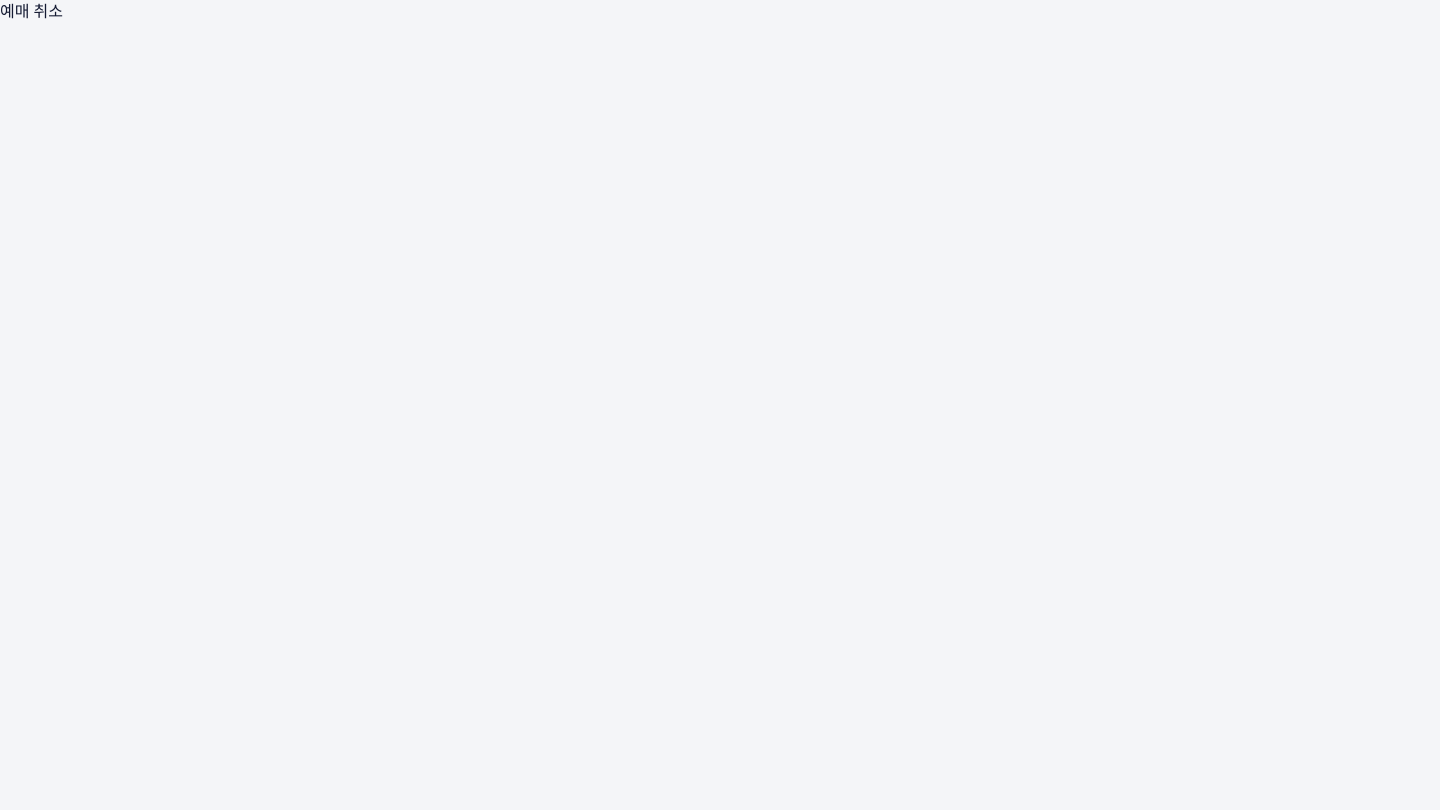
Test: Dialog › 열면 제목으로 이름이 붙고, Esc로 닫으면 포커스가 트리거로 돌아간다
Step 1. Click the button "예매 취소" → click(31, 12), box [0,0,63,24]
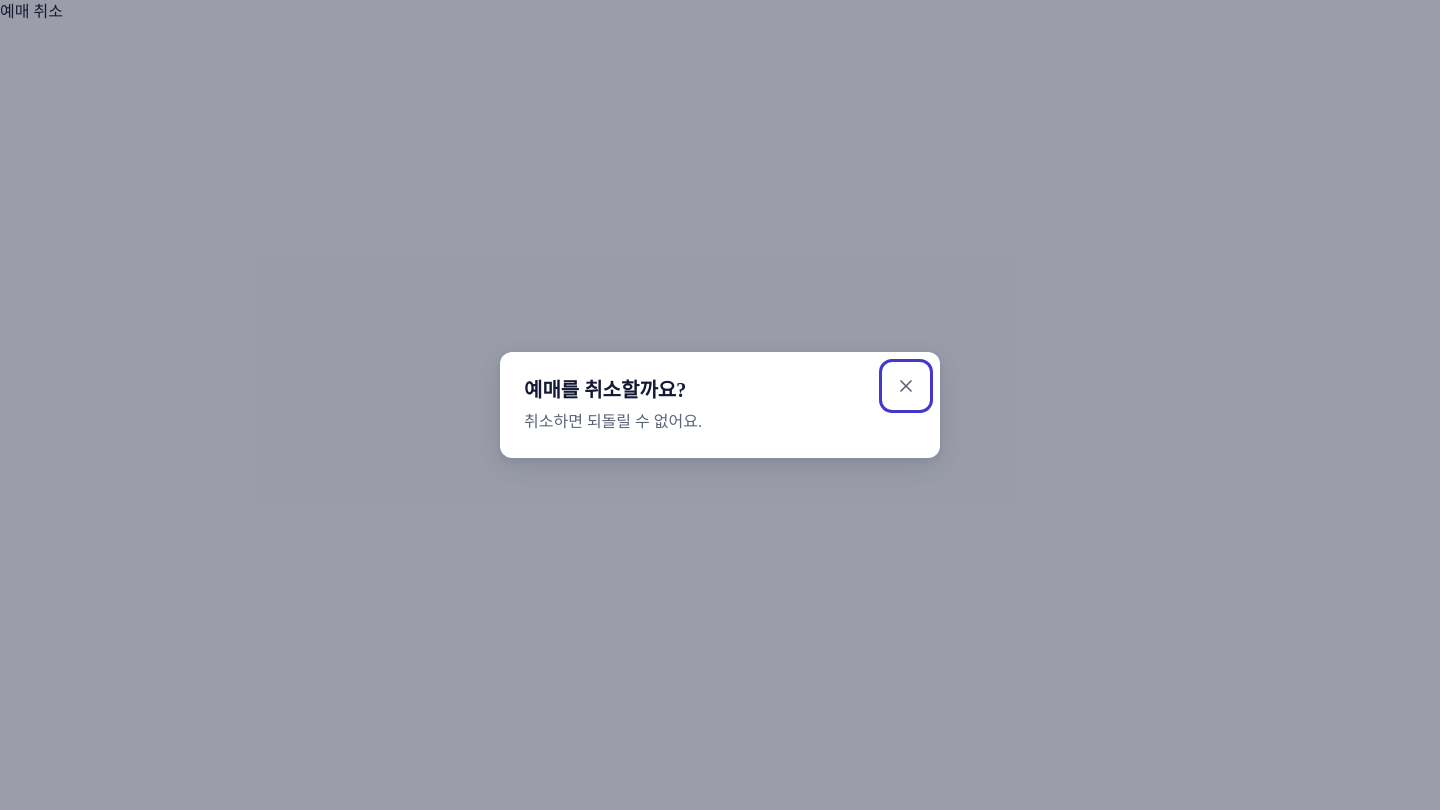
Step 2. Press Escape
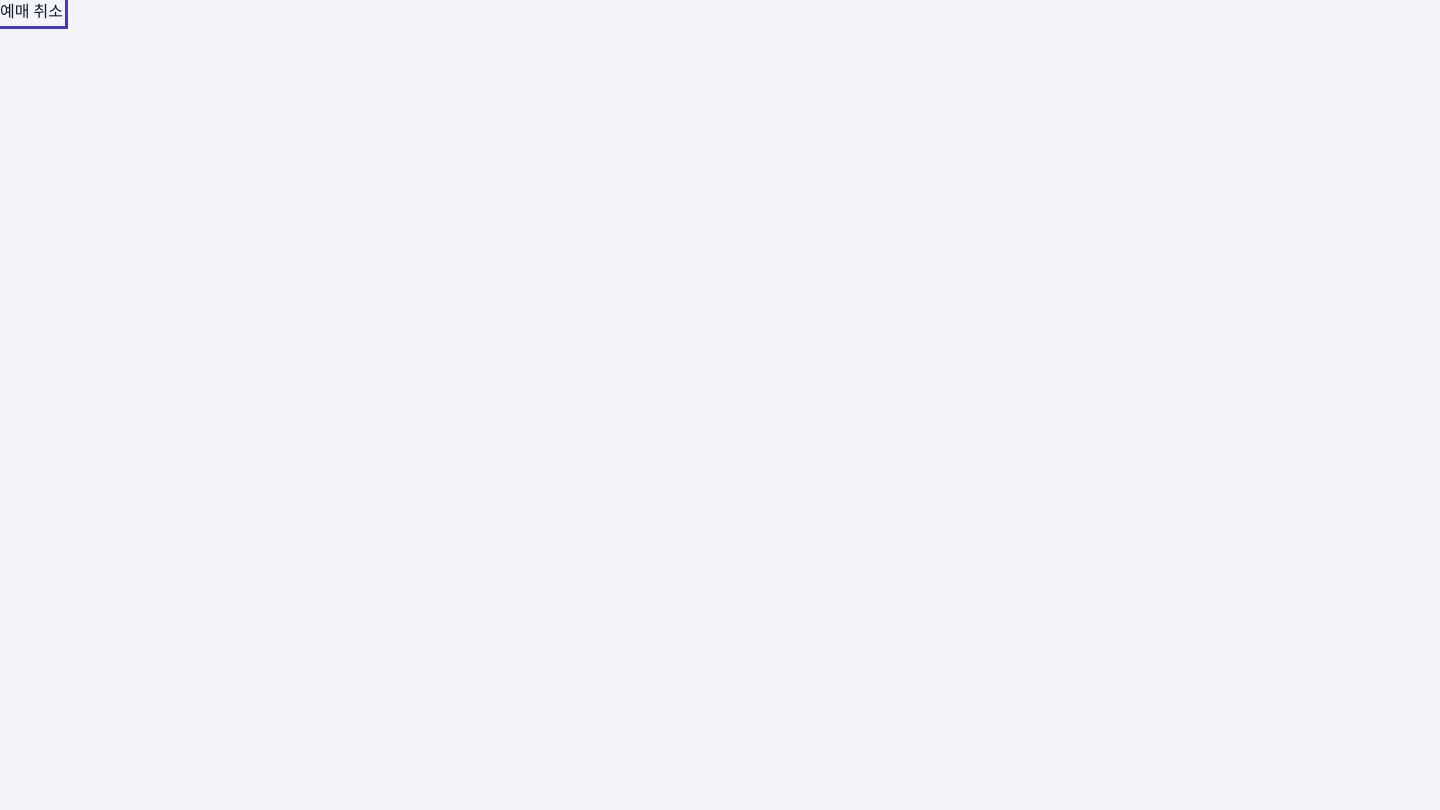
Result: the dialog is gone
